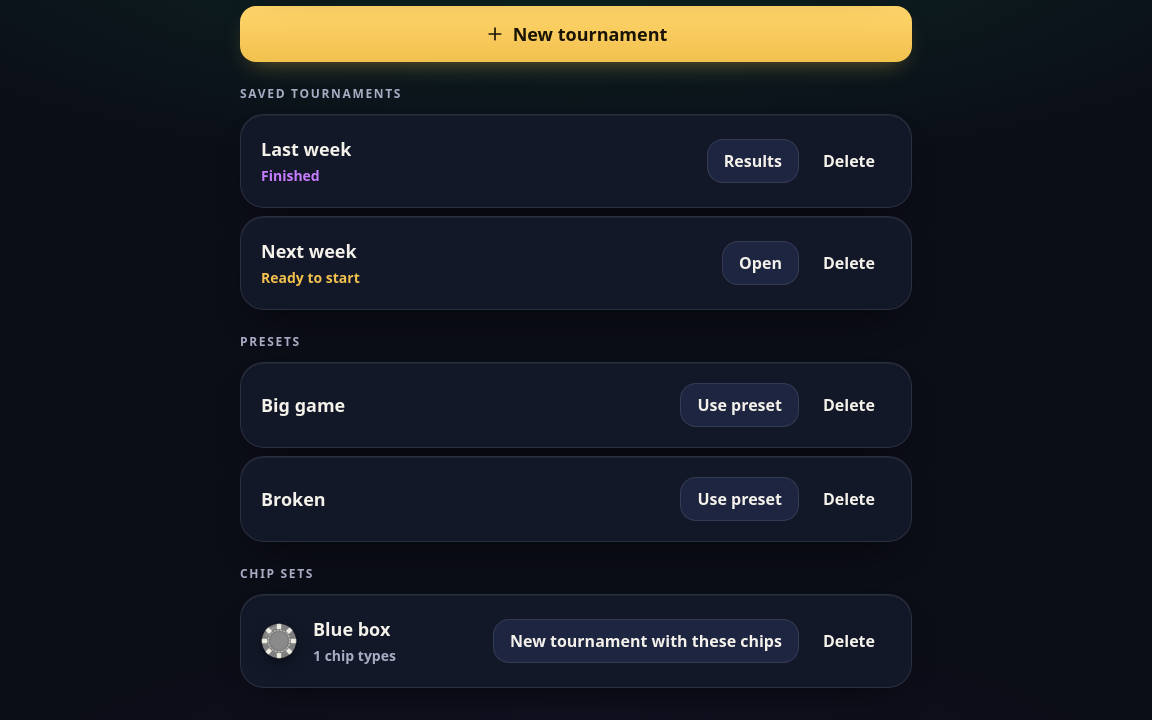
home library › starts a new tournament with a saved chip set
(page scrolled)
Click the button with aria-label "New tournament with these chips: Blue box". click: (646, 640)
box: [493,618,799,662]
(page scrolled)
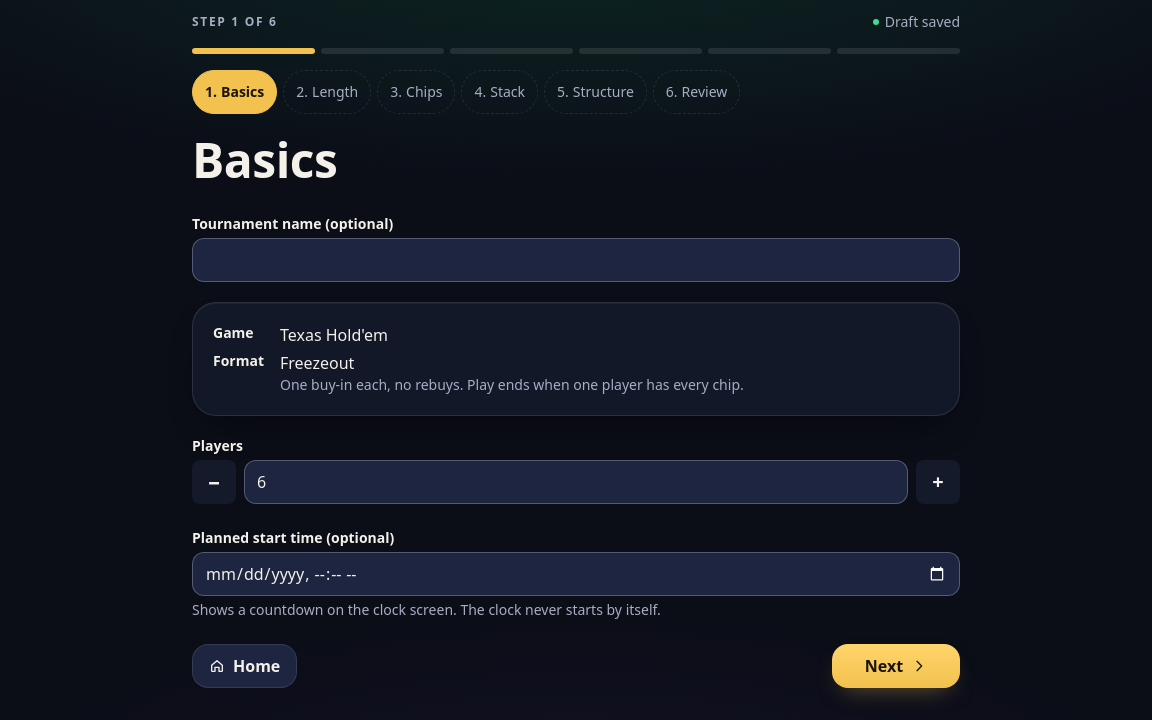
Result: the heading "Basics" is shown at [192,127,337,192]
